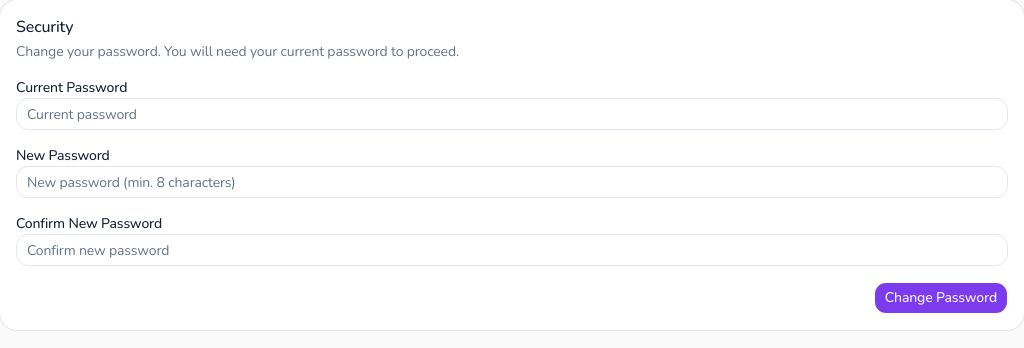
Scenario: ChangePasswordForm › shows 'Changing...' on the submit button while the request is in progress
Type "oldpass123" into the password field labelled "Current Password" at x=512, y=114, box [16, 98, 1008, 130]
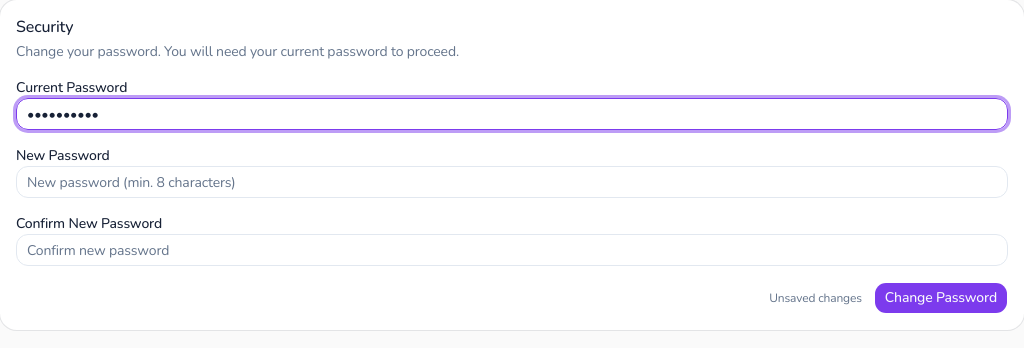
Type "newpass456" into the password field labelled "New Password" at x=512, y=182, box [16, 166, 1008, 198]
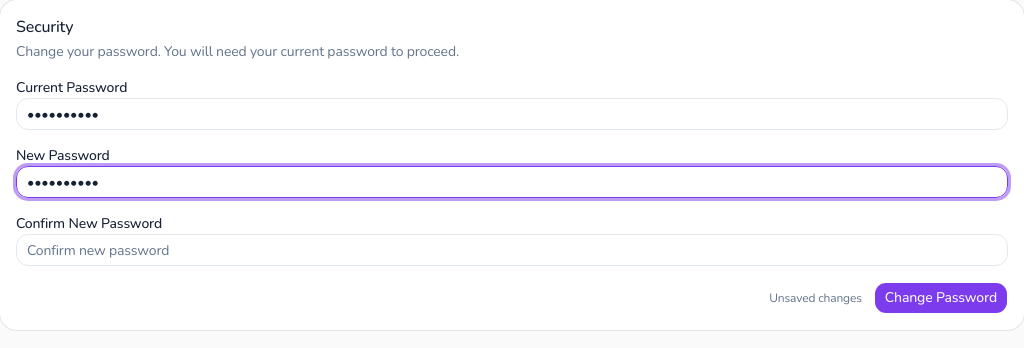
Type "newpass456" into the password field labelled "Confirm New Password" at x=512, y=250, box [16, 234, 1008, 266]
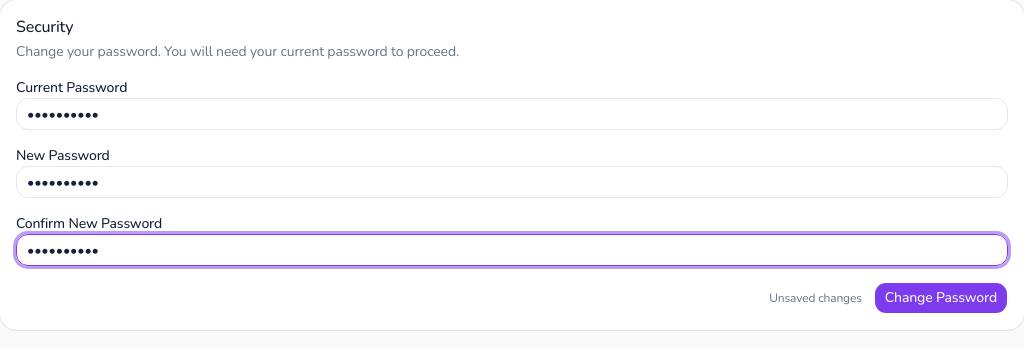
Click the button "Change Password" at x=941, y=298, box [874, 282, 1008, 314]
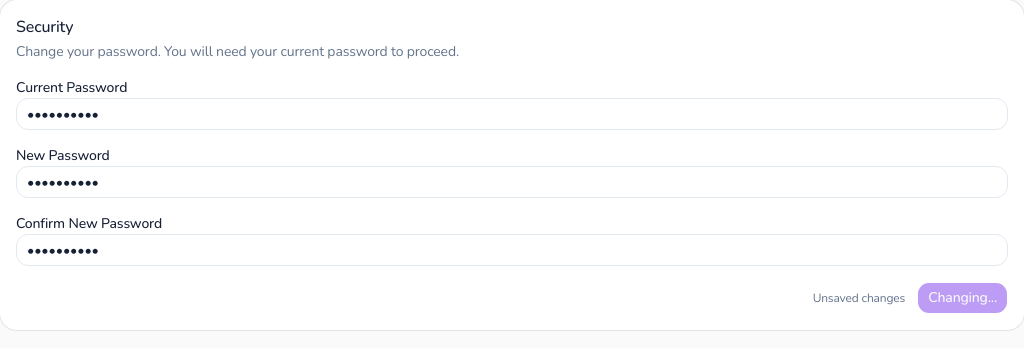
Expected: the button "Changing..." is disabled, [917, 282, 1008, 314]
